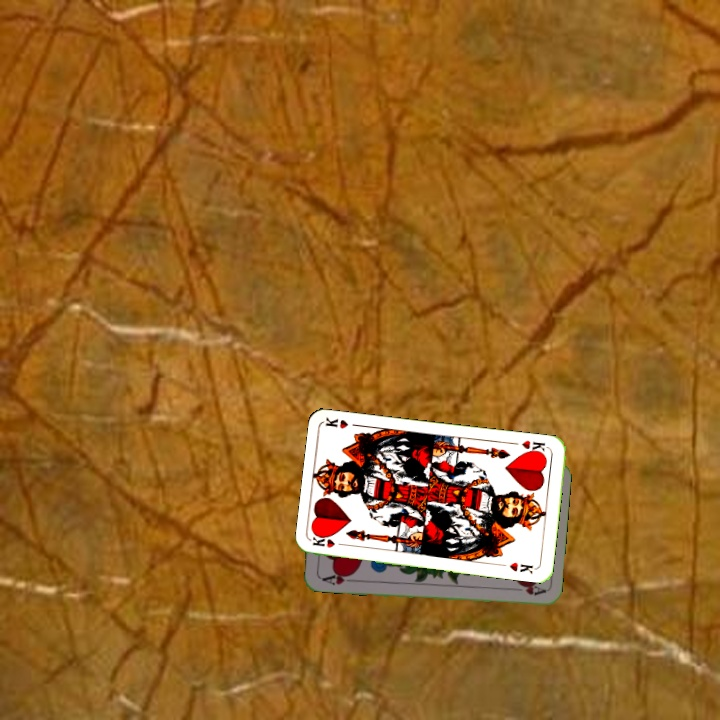HA: (318, 569, 358, 588)
HK: (309, 532, 350, 550), (518, 436, 551, 457)
